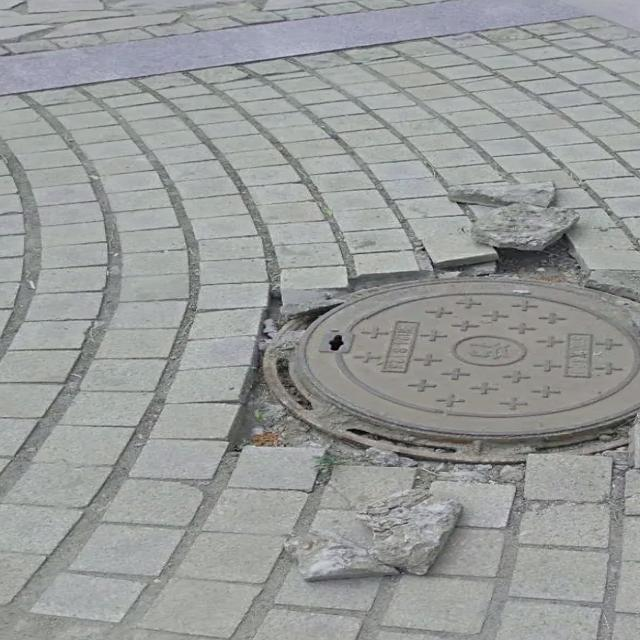circle: (182, 222, 640, 506)
